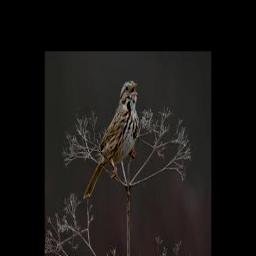Sparrow: (83, 80, 140, 200)
